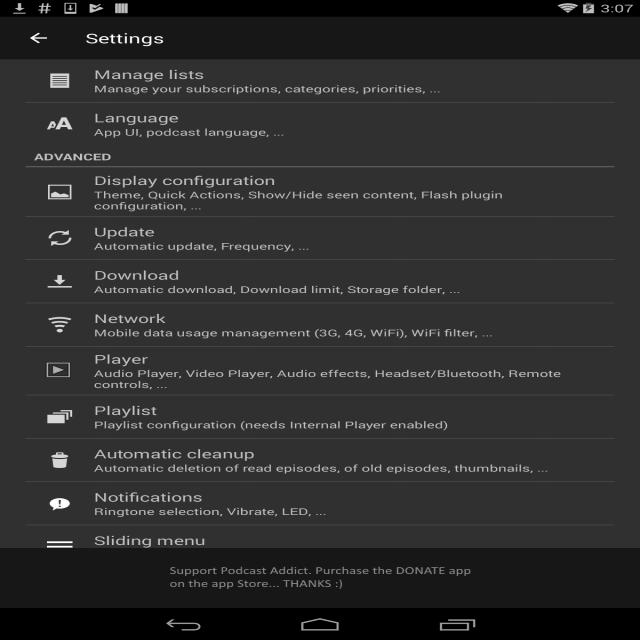ImageButton: (23, 27, 55, 45)
ImageView: (32, 224, 82, 252), (39, 402, 85, 432), (38, 178, 80, 208), (41, 67, 76, 96), (43, 492, 84, 516)
TextView: (90, 174, 527, 215), (86, 311, 511, 348), (90, 447, 544, 480), (87, 266, 477, 304), (88, 67, 447, 103), (89, 403, 454, 433), (89, 490, 338, 518), (87, 108, 283, 140), (89, 229, 310, 257), (74, 28, 184, 48)
